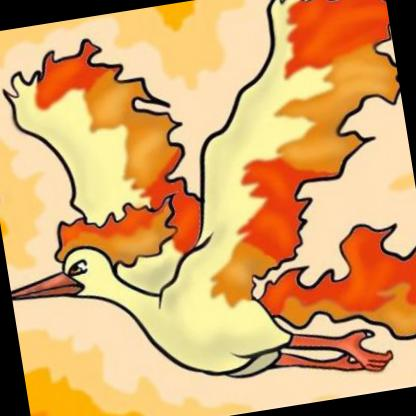Moltres: (1, 31, 416, 416)
